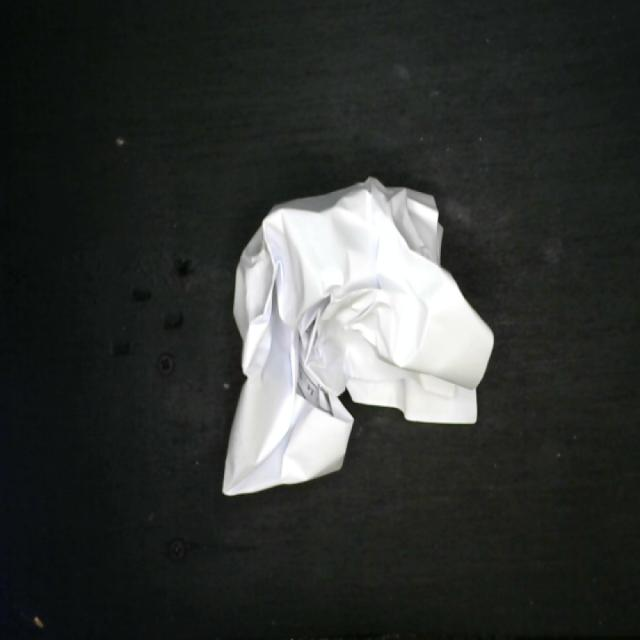biodegradable: (218, 172, 496, 500)
